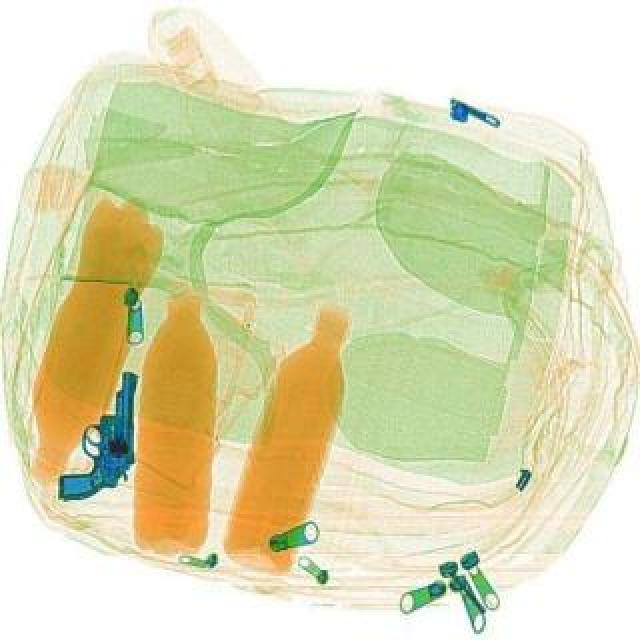gun: (50, 362, 162, 514)
